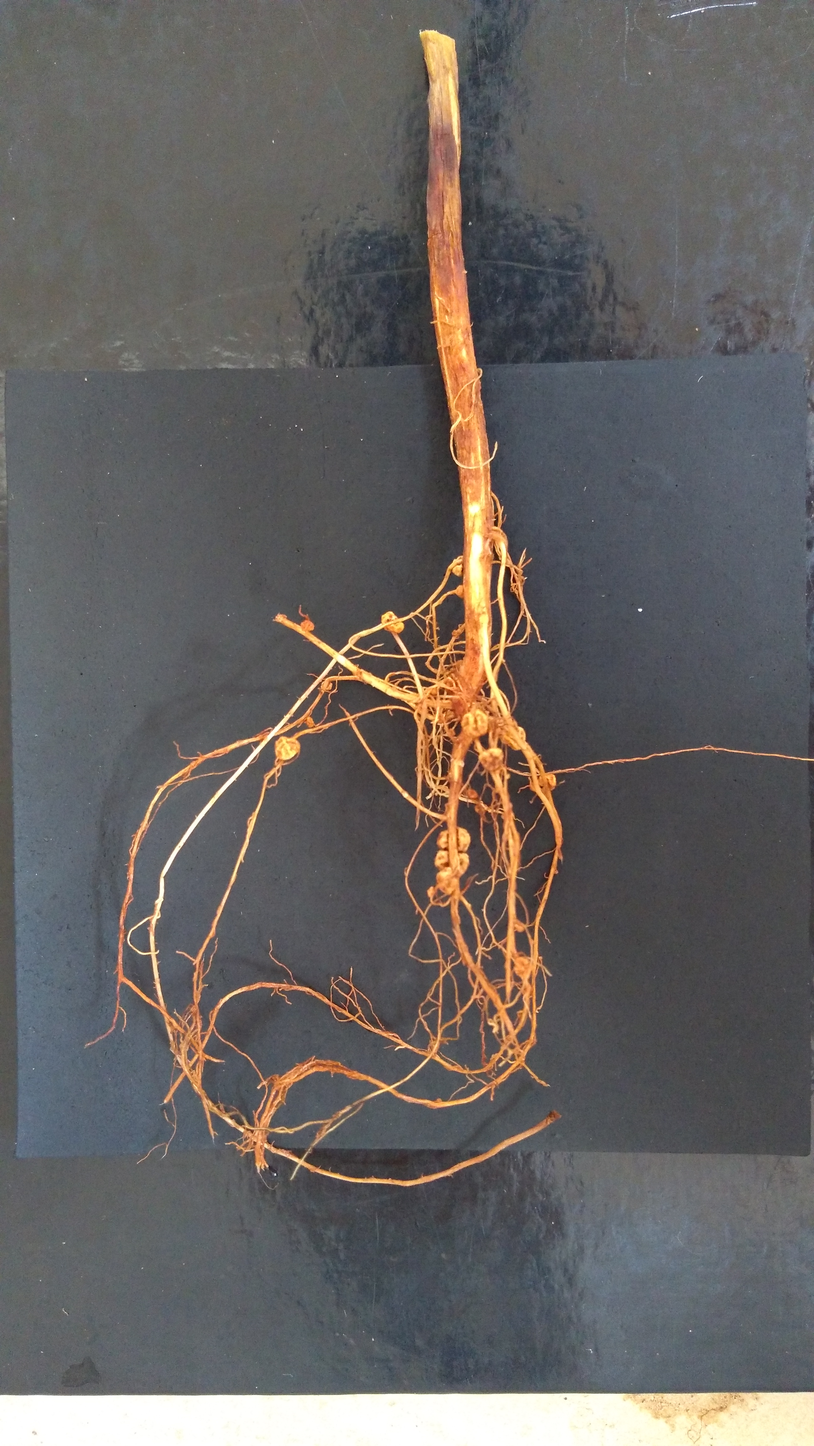nodule: (495, 716, 527, 751), (436, 826, 471, 853), (435, 850, 470, 875), (461, 708, 489, 737), (435, 868, 458, 895), (275, 736, 300, 760), (380, 611, 405, 633), (478, 749, 503, 771), (514, 955, 534, 976), (537, 773, 556, 790), (449, 659, 462, 680), (452, 555, 463, 578), (300, 619, 315, 633), (320, 679, 333, 691), (514, 919, 526, 932), (467, 787, 479, 799), (455, 584, 464, 599), (426, 687, 439, 696), (427, 886, 437, 897), (306, 716, 314, 728), (434, 1097, 443, 1104), (451, 629, 458, 637)
